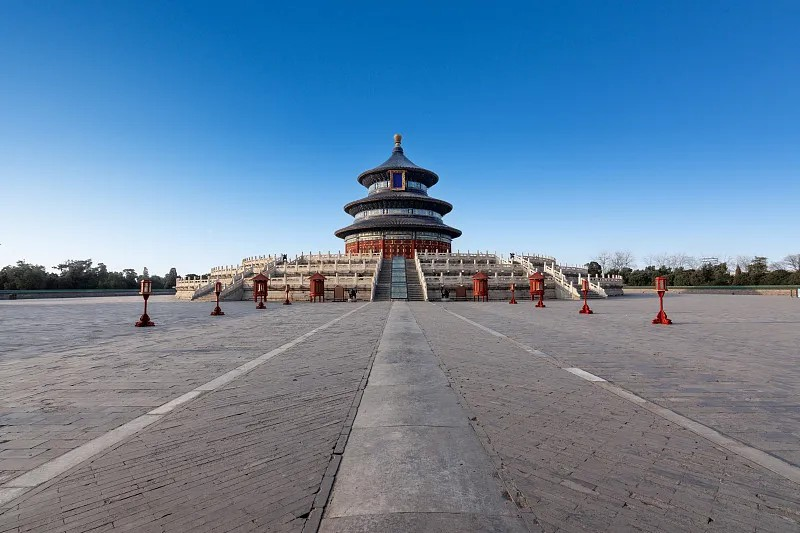Heaven: (332, 132, 462, 261)
